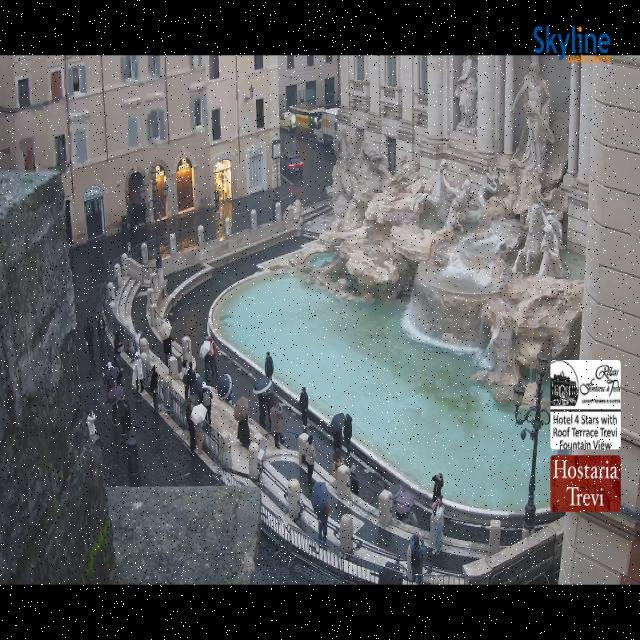person: (408, 533, 426, 584), (433, 496, 444, 556), (270, 403, 283, 448), (305, 434, 315, 486), (186, 403, 195, 454), (265, 390, 276, 431), (237, 416, 250, 449), (319, 504, 330, 543), (134, 351, 144, 393), (84, 317, 94, 358), (210, 337, 219, 378), (149, 366, 157, 410), (299, 388, 308, 427), (121, 400, 131, 435), (97, 315, 106, 352), (432, 473, 443, 503), (332, 449, 343, 479), (344, 415, 352, 456), (204, 337, 211, 383), (203, 384, 211, 424), (114, 330, 123, 365), (87, 411, 97, 442), (187, 362, 196, 395), (258, 393, 266, 428), (182, 360, 189, 399), (350, 465, 359, 495), (195, 422, 203, 455), (265, 352, 274, 379), (272, 193, 280, 222), (103, 373, 115, 391), (164, 336, 171, 365), (116, 356, 123, 385), (112, 400, 119, 427), (333, 430, 342, 450)
